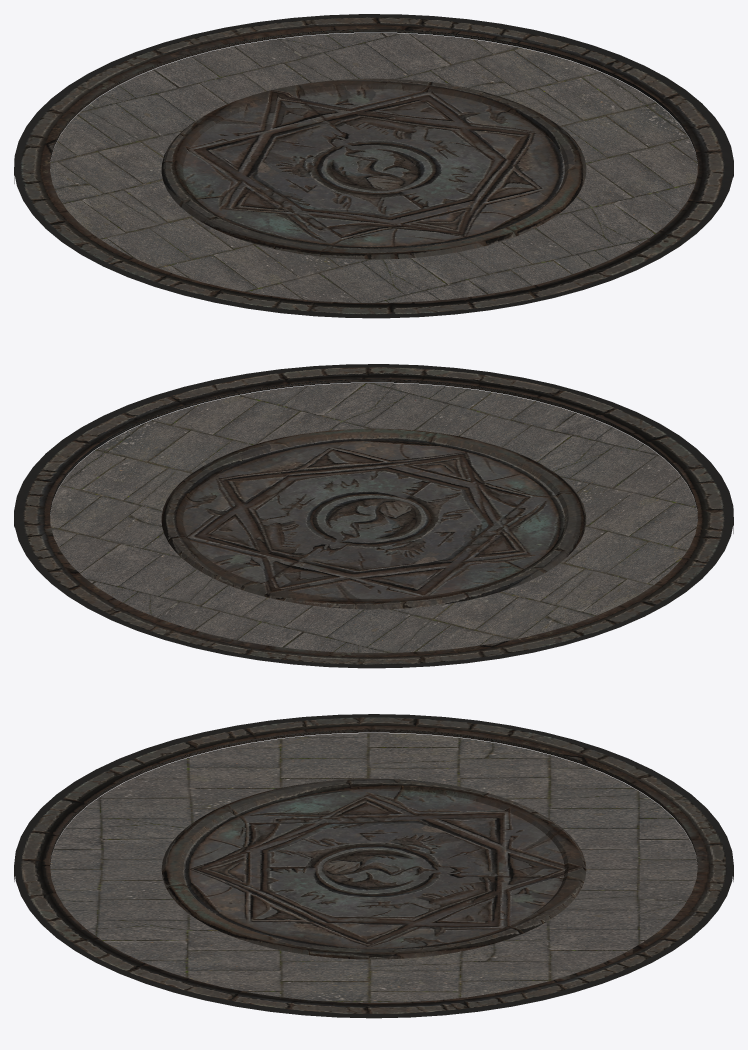
The model's file is Stage_Floor05.gltf.
The picture shows the model from 3 angles, top to bottom: view 1: azimuth 30°, elevation 25°; view 2: azimuth 150°, elevation 25°; view 3: azimuth 270°, elevation 25°; orthographic projection.
Parts seen in each view (by area): view 1: Stage_Floor05; view 2: Stage_Floor05; view 3: Stage_Floor05.
Part boxes in pixels (x1=…): Stage_Floor05: x1=14, y1=14, x2=733, y2=318; Stage_Floor05: x1=14, y1=364, x2=733, y2=668; Stage_Floor05: x1=14, y1=714, x2=733, y2=1018.
Size of the model in its own units: 2 by 0.054 by 2.
4 materials, 4 textured.
